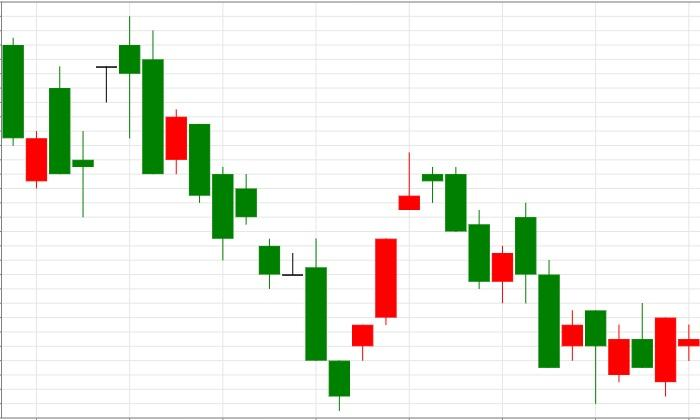evening_star_fall: (329, 153, 466, 411)
